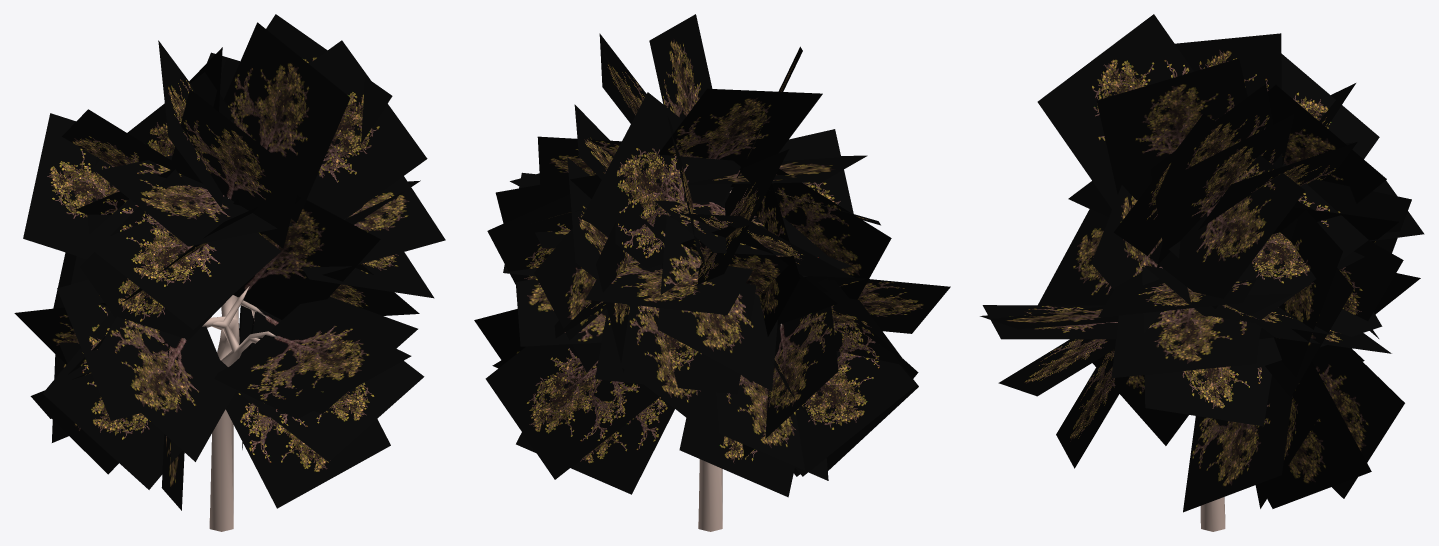
File: tree40.glb
3 views of the same model, side by side, from view 1: azimuth 30°, elevation 25°; view 2: azimuth 150°, elevation 25°; view 3: azimuth 270°, elevation 25° (orthographic).
Bounding box in the file's own units: 6.2 × 7.28 × 5.98.
Materials: 2 (1 with a texture image).
